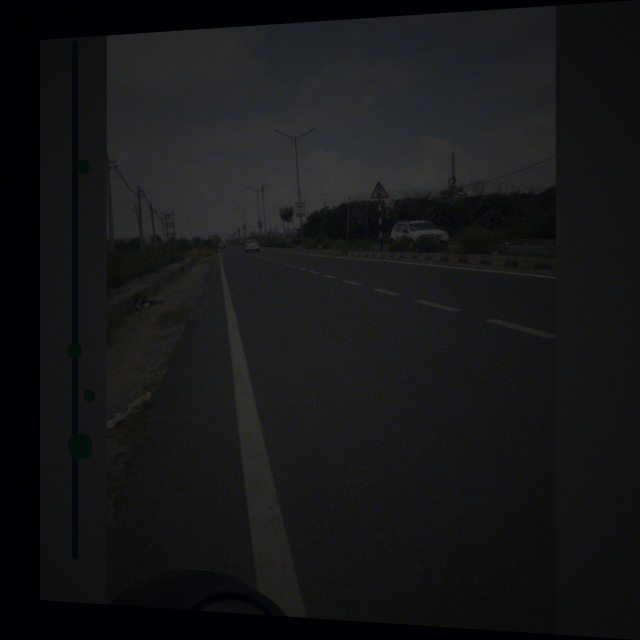Gap_in_Median: (366, 177, 392, 201)
